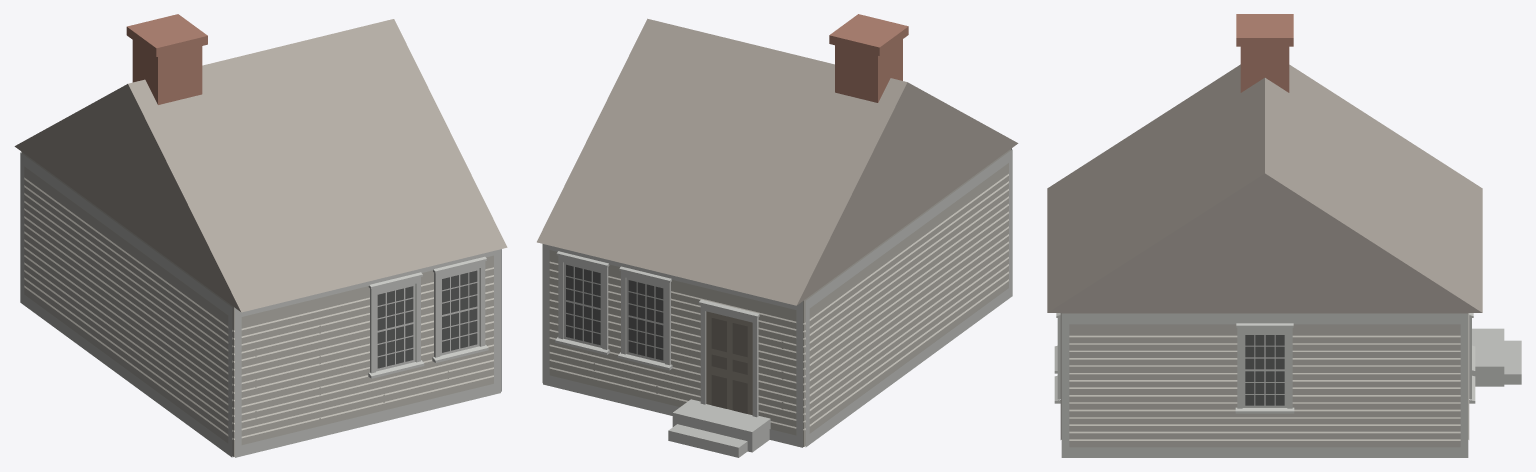
File: recon_1835_north_d3_002__inferred_1835.glb
3 views of the same model, side by side, from view 1: azimuth 30°, elevation 25°; view 2: azimuth 150°, elevation 25°; view 3: azimuth 270°, elevation 25° (orthographic). The views are drawn at different scales.
Visible parts, largest first — view 1: recon_1835_north_d3_002__inferred_1835; view 2: recon_1835_north_d3_002__inferred_1835; view 3: recon_1835_north_d3_002__inferred_1835.
Part boxes in pixels (bbox=[...]): recon_1835_north_d3_002__inferred_1835: bbox=[14, 14, 507, 457]; recon_1835_north_d3_002__inferred_1835: bbox=[537, 14, 1018, 457]; recon_1835_north_d3_002__inferred_1835: bbox=[1047, 14, 1521, 457].
Size of the model in its own units: 5.22 by 6.16 by 8.15.
